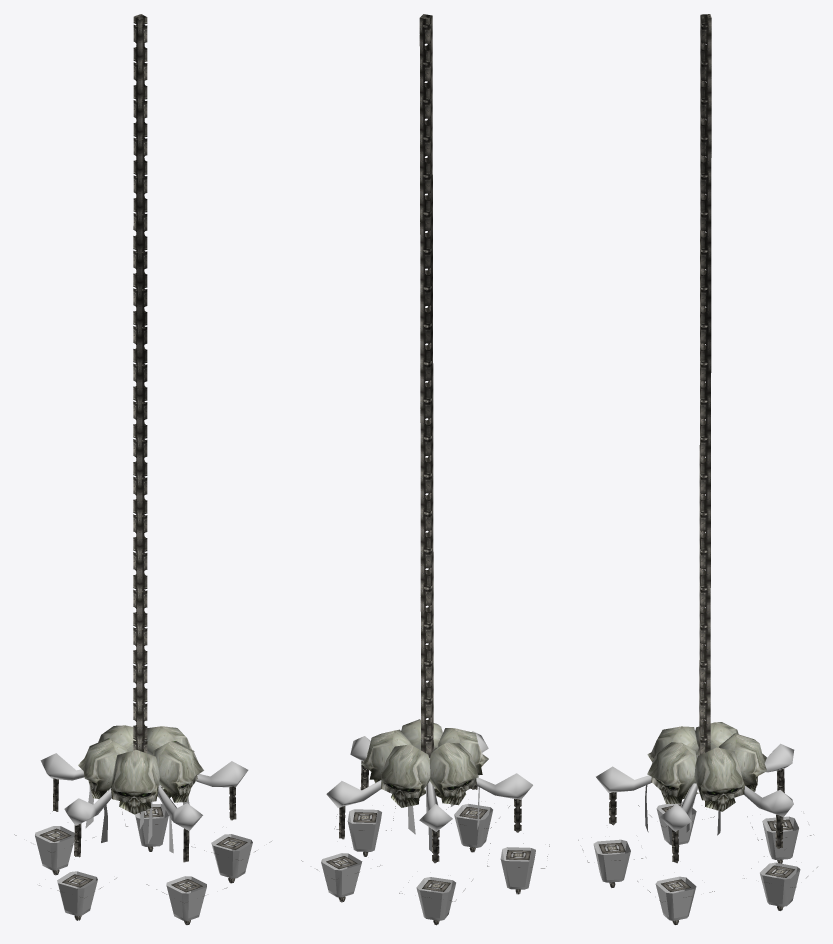
The model's file is undeadchandelier02.obj.
3 views of the same model, side by side, from view 1: azimuth 30°, elevation 25°; view 2: azimuth 150°, elevation 25°; view 3: azimuth 270°, elevation 25° (orthographic).
Parts seen in each view (by area): view 1: Geoset1, Geoset2, Geoset3, Geoset0, Geoset4; view 2: Geoset1, Geoset2, Geoset3, Geoset0, Geoset4; view 3: Geoset1, Geoset2, Geoset3, Geoset0, Geoset4.
Part boxes in pixels (<box>): Geoset1: <box>14,14,271,924</box>; Geoset2: <box>78,725,203,814</box>; Geoset3: <box>35,803,252,918</box>; Geoset0: <box>40,753,248,853</box>; Geoset4: <box>35,804,252,920</box>; Geoset1: <box>301,14,549,925</box>; Geoset2: <box>361,719,488,807</box>; Geoset3: <box>321,804,535,918</box>; Geoset0: <box>326,731,532,851</box>; Geoset4: <box>321,804,535,920</box>; Geoset1: <box>578,14,817,924</box>; Geoset2: <box>647,722,766,811</box>; Geoset3: <box>593,803,800,918</box>; Geoset0: <box>596,743,794,835</box>; Geoset4: <box>593,801,800,920</box>.
Size of the model in its own units: 6.07 by 22.99 by 5.72.
